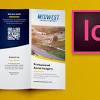paper: (0, 9, 66, 90)
